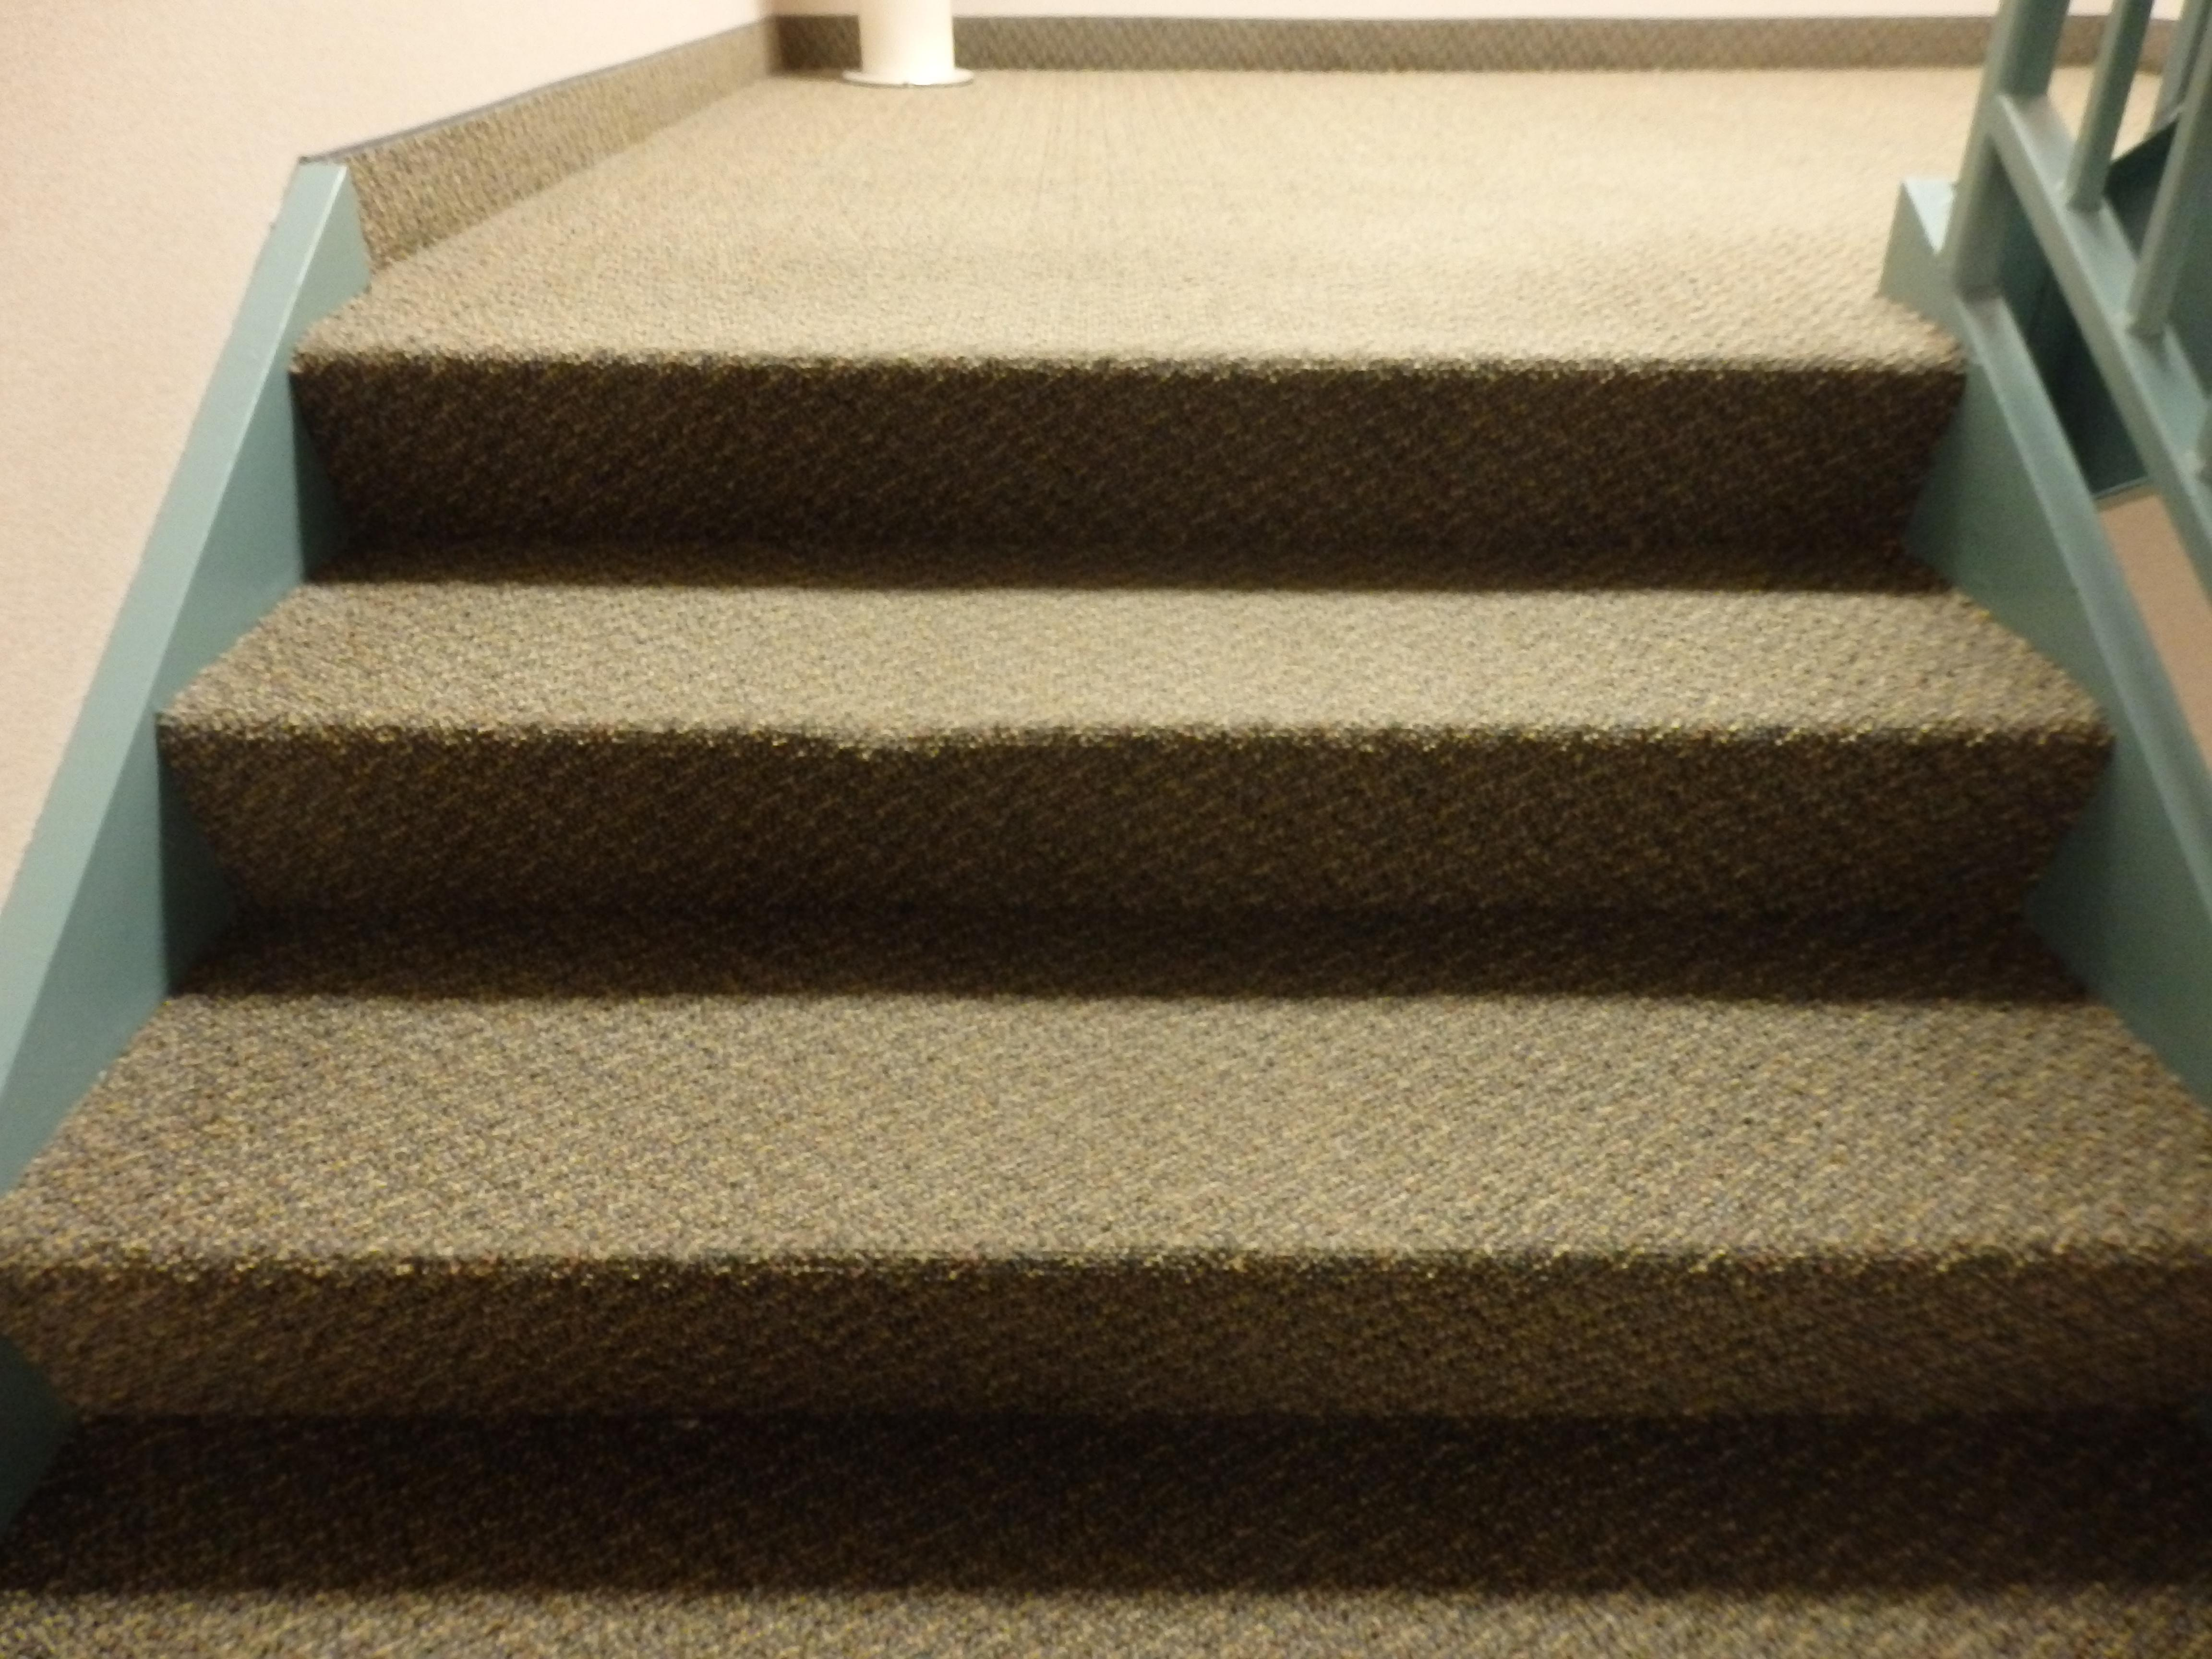stairs_up: (171, 298, 2134, 1544)
